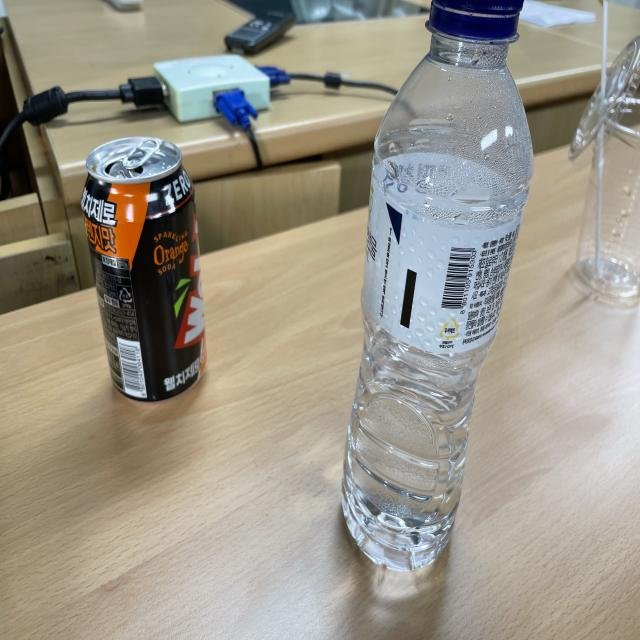plastic bottle: (341, 0, 534, 576)
